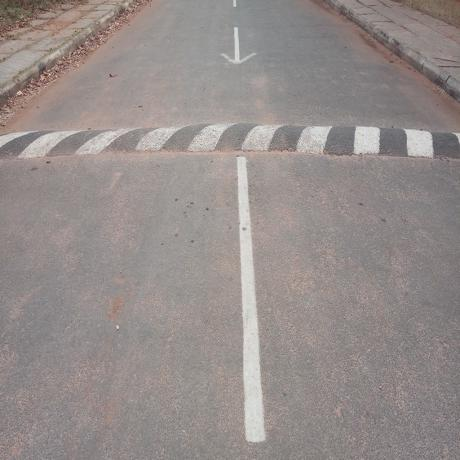Speed Bump: (0, 120, 460, 163)
